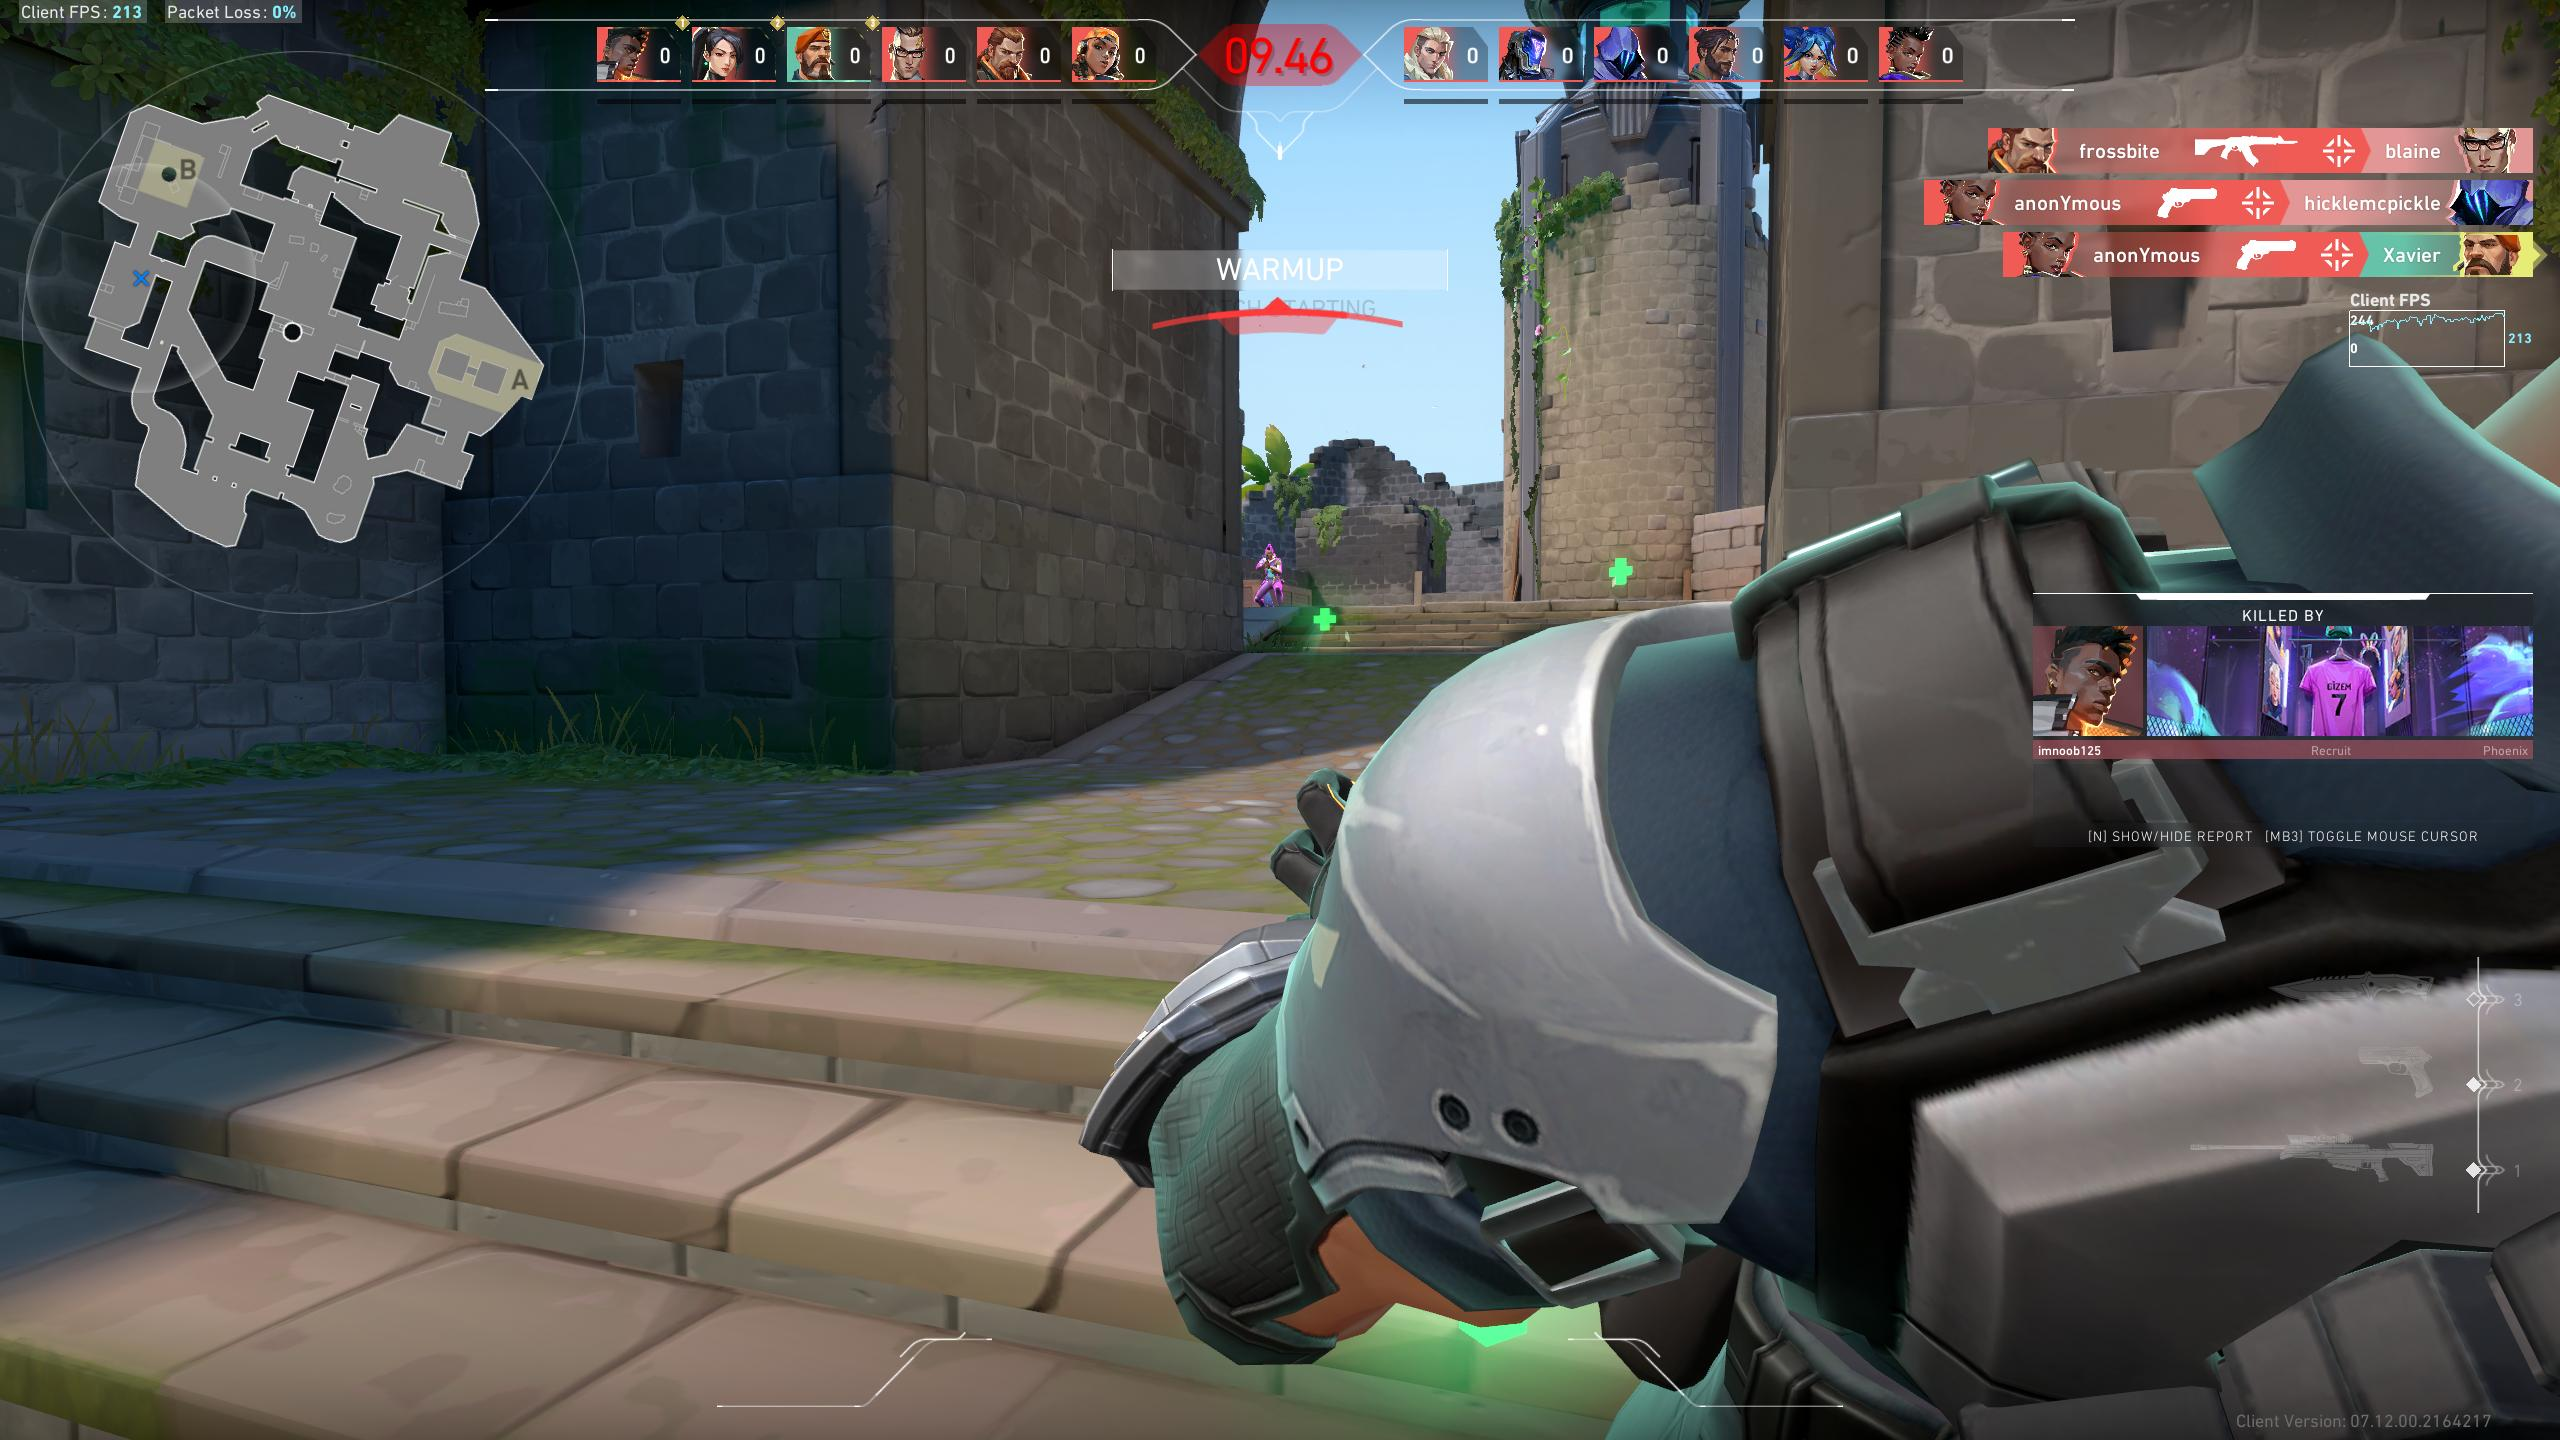enemyBody: (1261, 563, 1285, 591)
enemyHead: (1261, 542, 1276, 559)
